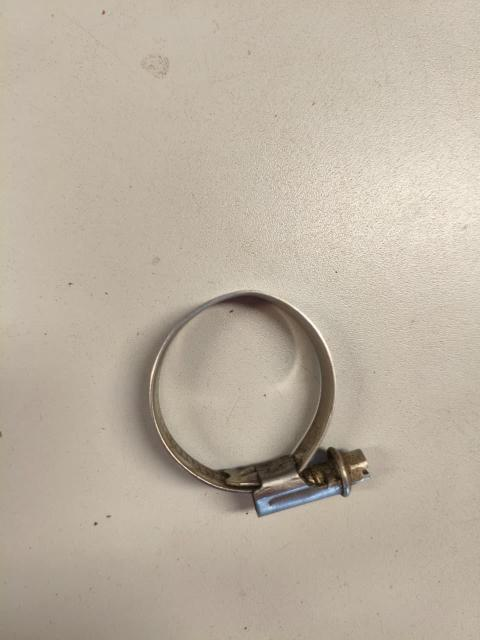Metal: (123, 285, 370, 512)
